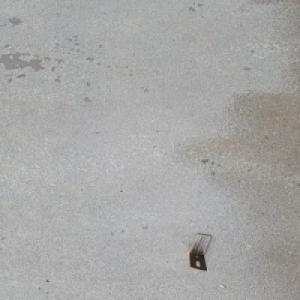MetalPart: (187, 233, 213, 272)
